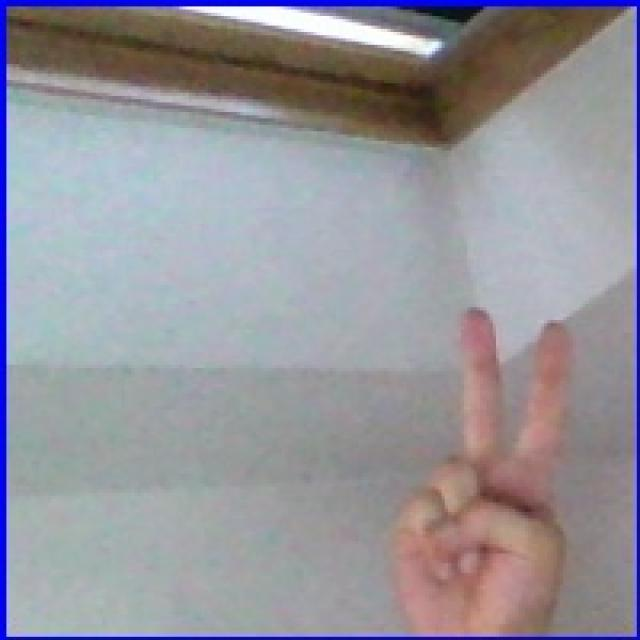Letra-V: (366, 293, 616, 627)
